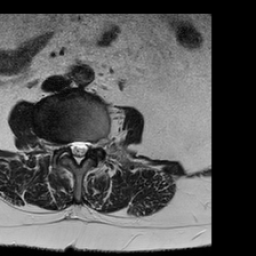CCS_normal: (75, 133, 82, 171)
LFS_stenosis: (90, 132, 98, 155)
LLS_normal: (82, 133, 90, 158)
RFS_severe_stenosis: (59, 133, 67, 157)
RLS_normal: (67, 133, 75, 158)
